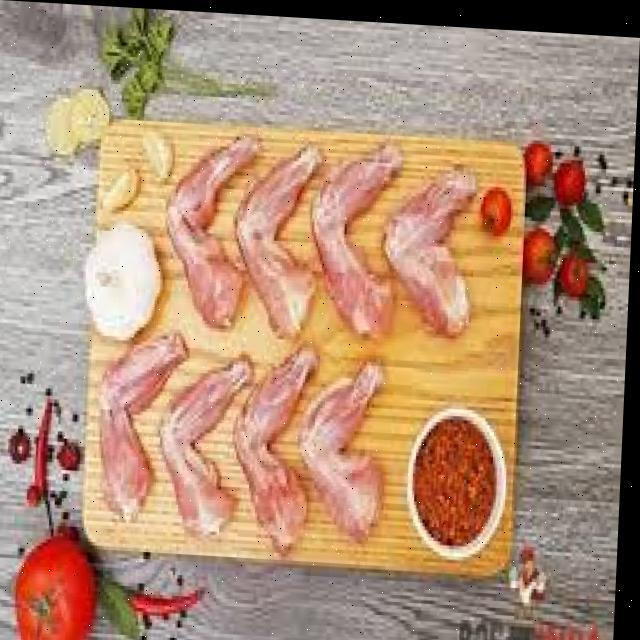wing: (384, 153, 492, 346), (156, 122, 252, 334), (236, 122, 326, 334), (320, 116, 404, 323), (308, 344, 394, 538), (244, 339, 320, 549), (102, 319, 184, 512), (168, 347, 250, 533)
